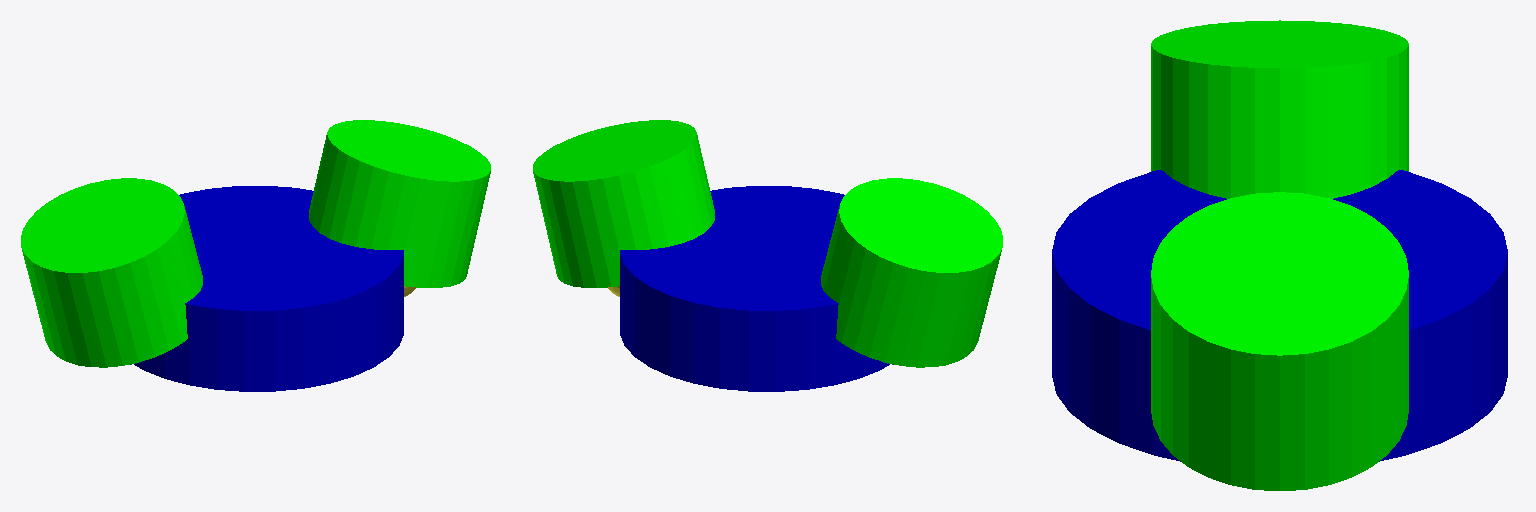
The robot description file, URDF, robot "gripper_2f_1j":
<?xml version='1.0' encoding='UTF-8'?>
<robot name="gripper_2f_1j">
  <link name="palm">
    <inertial>
      <origin xyz="0.0 0.0 0.0" rpy="0.0 -0.0 0.0"/>
      <mass value="1.0"/>
      <inertia ixx="1.0" ixy="0.0" ixz="0.0" iyy="1.0" iyz="0.0" izz="1.0"/>
    </inertial>
    <visual>
      <geometry>
        <cylinder radius="0.05" length="0.03"/>
      </geometry>
      <material name="blue"/>
      <origin xyz="0.0 0.0 0.0" rpy="0.0 -0.0 0.0"/>
    </visual>
    <collision>
      <geometry>
        <cylinder radius="0.05" length="0.03"/>
      </geometry>
      <origin xyz="0.0 0.0 0.0" rpy="0.0 0.0 0.0"/>
    </collision>
  </link>
  <link name="f11">
    <inertial>
      <origin xyz="0.0 0.0 0.0" rpy="0.0 -0.0 0.0"/>
      <mass value="1.0"/>
      <inertia ixx="1.0" ixy="0.0" ixz="0.0" iyy="1.0" iyz="0.0" izz="1.0"/>
    </inertial>
    <visual>
      <geometry>
        <cylinder radius="0.028314886575929087" length="0.038492088020834814"/>
      </geometry>
      <material name="green"/>
      <origin xyz="0.0 0.0 0.019246044010417407" rpy="0.0 -0.0 0.0"/>
    </visual>
    <collision>
      <geometry>
        <cylinder radius="0.028314886575929087" length="0.038492088020834814"/>
      </geometry>
      <origin xyz="0.0 0.0 0.05" rpy="0.0 0.0 0.0"/>
    </collision>
  </link>
  <link name="f21">
    <inertial>
      <origin xyz="0.0 0.0 0.0" rpy="0.0 -0.0 0.0"/>
      <mass value="1.0"/>
      <inertia ixx="1.0" ixy="0.0" ixz="0.0" iyy="1.0" iyz="0.0" izz="1.0"/>
    </inertial>
    <visual>
      <geometry>
        <cylinder radius="0.028314886575929087" length="0.038492088020834814"/>
      </geometry>
      <material name="green"/>
      <origin xyz="0.0 0.0 0.019246044010417407" rpy="0.0 -0.0 0.0"/>
    </visual>
    <collision>
      <geometry>
        <cylinder radius="0.028314886575929087" length="0.038492088020834814"/>
      </geometry>
      <origin xyz="0.0 0.0 0.05" rpy="0.0 0.0 0.0"/>
    </collision>
  </link>
  <link name="f11_base">
    <inertial>
      <origin xyz="0.0 0.0 0.0" rpy="0.0 -0.0 0.0"/>
      <mass value="1.0"/>
      <inertia ixx="1.0" ixy="0.0" ixz="0.0" iyy="1.0" iyz="0.0" izz="1.0"/>
    </inertial>
    <visual>
      <geometry>
        <sphere radius="0.015"/>
      </geometry>
      <origin xyz="0.0 0.0 0.0" rpy="0.0 -0.0 0.0"/>
    </visual>
  </link>
  <link name="f21_base">
    <inertial>
      <origin xyz="0.0 0.0 0.0" rpy="0.0 -0.0 0.0"/>
      <mass value="1.0"/>
      <inertia ixx="1.0" ixy="0.0" ixz="0.0" iyy="1.0" iyz="0.0" izz="1.0"/>
    </inertial>
    <visual>
      <geometry>
        <sphere radius="0.015"/>
      </geometry>
      <origin xyz="0.0 0.0 0.0" rpy="0.0 -0.0 0.0"/>
    </visual>
  </link>
  <joint name="f11_joint" type="revolute">
    <dynamics damping="100.0" friction="1.0"/>
    <limit effort="30.0" velocity="2.0" lower="-0.6" upper="0.25"/>
    <parent link="f11_base"/>
    <child link="f11"/>
    <axis xyz="0. 1. 0."/>
    <origin xyz="0.0 0.0 0.0" rpy="0.0 0.25 0.0"/>
  </joint>
  <joint name="f21_joint" type="revolute">
    <dynamics damping="100.0" friction="1.0"/>
    <limit effort="30.0" velocity="2.0" lower="-0.6" upper="0.25"/>
    <parent link="f21_base"/>
    <child link="f21"/>
    <axis xyz=" 0. -1.  0."/>
    <origin xyz="0.0 0.0 0.0" rpy="0.0 -0.25 0.0"/>
  </joint>
  <joint name="f11_base_joint" type="fixed">
    <parent link="palm"/>
    <child link="f11_base"/>
    <axis xyz="1. 0. 0."/>
    <origin xyz="0.05 0.0 0.0" rpy="0.0 0.0 0.0"/>
  </joint>
  <joint name="f21_base_joint" type="fixed">
    <parent link="palm"/>
    <child link="f21_base"/>
    <axis xyz="1. 0. 0."/>
    <origin xyz="-0.05 -0.0 0.0" rpy="0.0 0.0 0.0"/>
  </joint>
  <material name="blue">
    <color rgba="0.  0.  0.8 1. "/>
  </material>
  <material name="green">
    <color rgba="0. 1. 0. 1."/>
  </material>
</robot>

--- Facts derived from the render (not from the file) ---
The picture shows the robot from 3 angles, left to right: view 1: azimuth 30°, elevation 25°; view 2: azimuth 150°, elevation 25°; view 3: azimuth 270°, elevation 25°; orthographic projection.
Robot: gripper_2f_1j — 5 links, 4 joints (2 revolute, 2 fixed); root link palm; default pose: all joints at 0.
Visible links, largest first — view 1: palm, f21, f11; view 2: palm, f21, f11; view 3: f11, palm, f21.
Link boxes in pixels (left/top/right/bottom): palm: left=134, top=186, right=403, bottom=391; f21: left=21, top=178, right=202, bottom=367; f11: left=309, top=120, right=490, bottom=287; palm: left=620, top=186, right=889, bottom=391; f21: left=821, top=178, right=1002, bottom=367; f11: left=533, top=120, right=714, bottom=287; f11: left=1151, top=192, right=1408, bottom=490; palm: left=1052, top=170, right=1507, bottom=461; f21: left=1151, top=20, right=1408, bottom=198.
Bounding box of the posed robot: 0.1739 × 0.1 × 0.0593 m (x, y, z).
Geometry: primitives only (box / cylinder / sphere), no mesh files.
